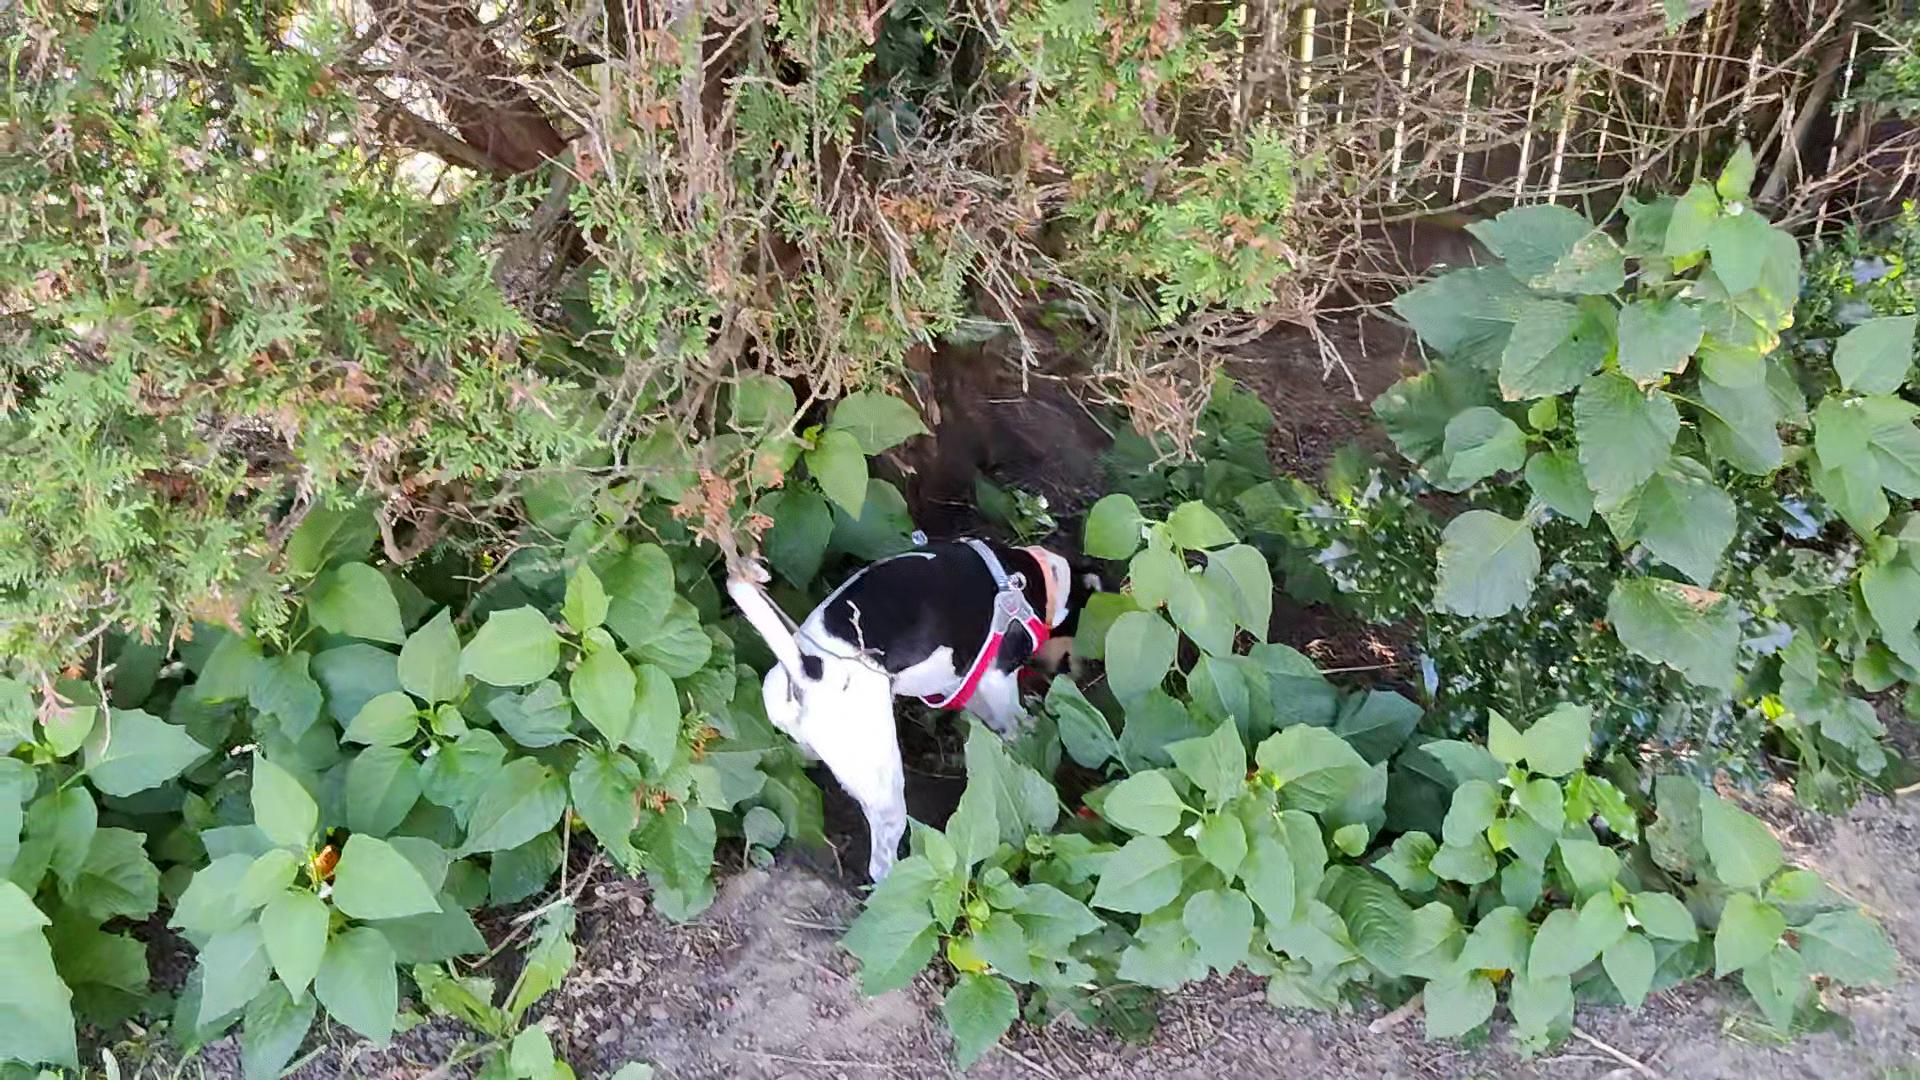Dog: (684, 525, 1121, 909)
